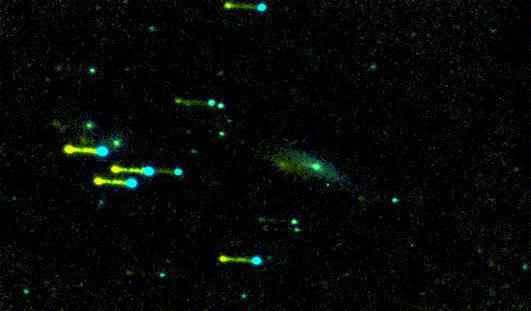star: (267, 150, 297, 180)
